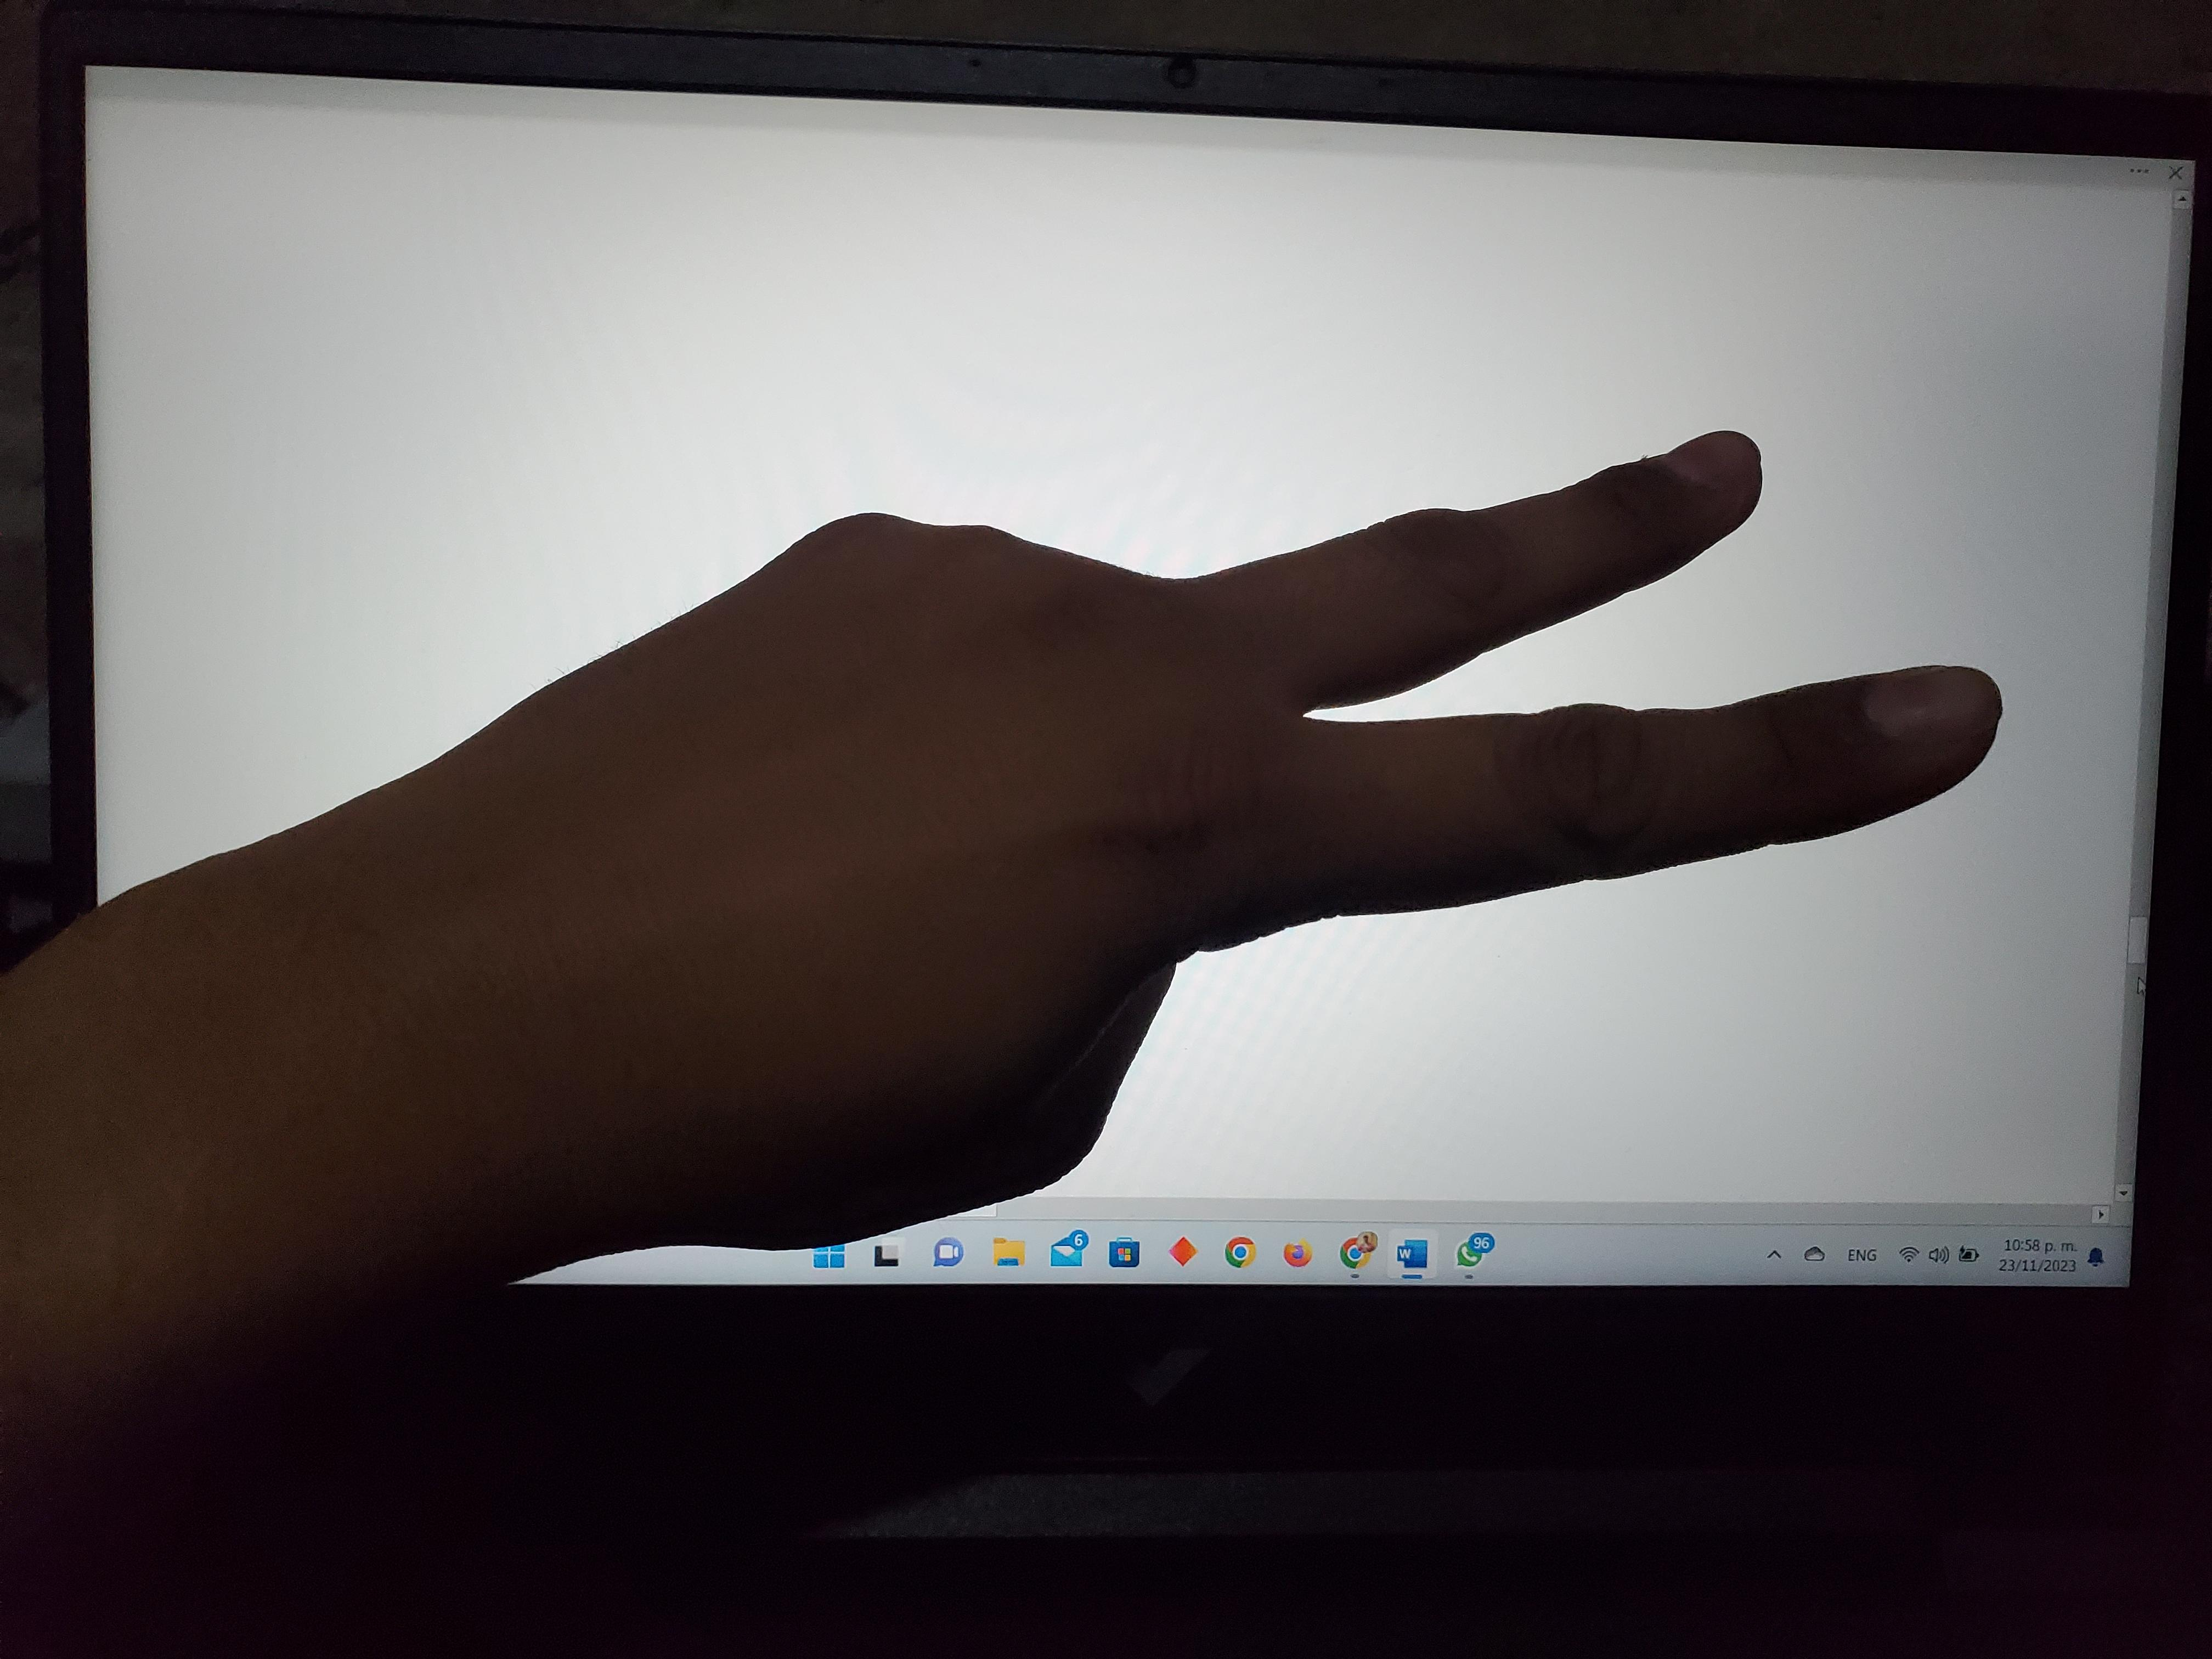Scissor: (319, 407, 2212, 1299)
